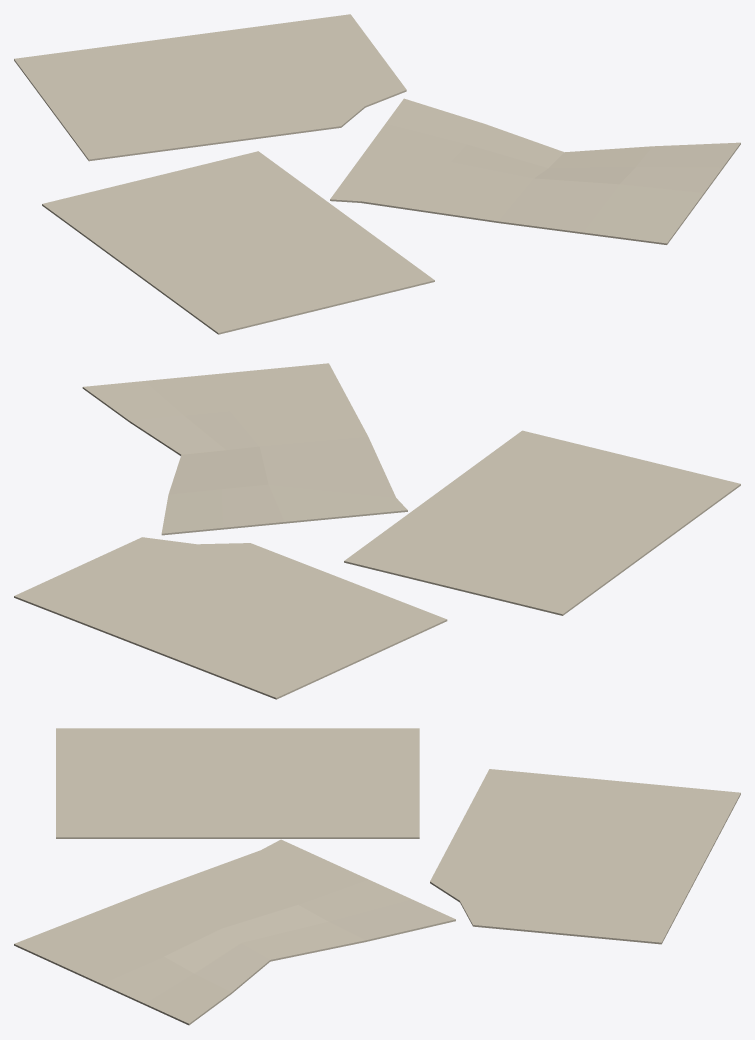
The model's file is Paper1.fbx.
3 views of the same model, one above another, from view 1: azimuth 30°, elevation 25°; view 2: azimuth 150°, elevation 25°; view 3: azimuth 270°, elevation 25° (orthographic). The views are drawn at different scales.
Visible parts, largest first — view 1: Cube; view 2: Cube; view 3: Cube.
Boxes of the visible parts, x1,y1,x2,y2 form: Cube: (14, 14, 740, 334); Cube: (14, 363, 740, 699); Cube: (14, 728, 740, 1025).
Bounding box in the file's own units: 403 × 4.35 × 419.
